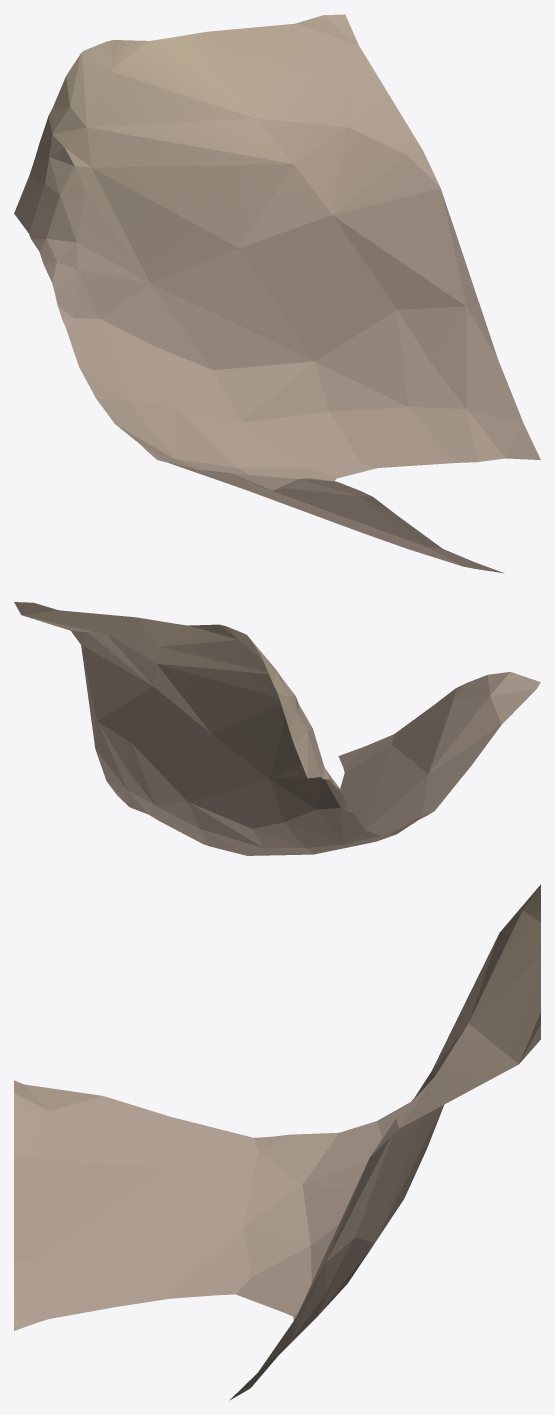
File: bisect-9-2-10.gltf
3 renders of one model, top to bottom at view 1: azimuth 30°, elevation 25°; view 2: azimuth 150°, elevation 25°; view 3: azimuth 270°, elevation 25°, orthographic. The views are drawn at different scales.
Visible parts, largest first — view 1: bisect-9-2-10; view 2: bisect-9-2-10; view 3: bisect-9-2-10.
Boxes of the visible parts, x1,y1,x2,y2 form: bisect-9-2-10: [14, 14, 540, 573]; bisect-9-2-10: [14, 602, 540, 855]; bisect-9-2-10: [14, 884, 540, 1400].
Size of the model in its own units: 16.29 by 15.62 by 20.
